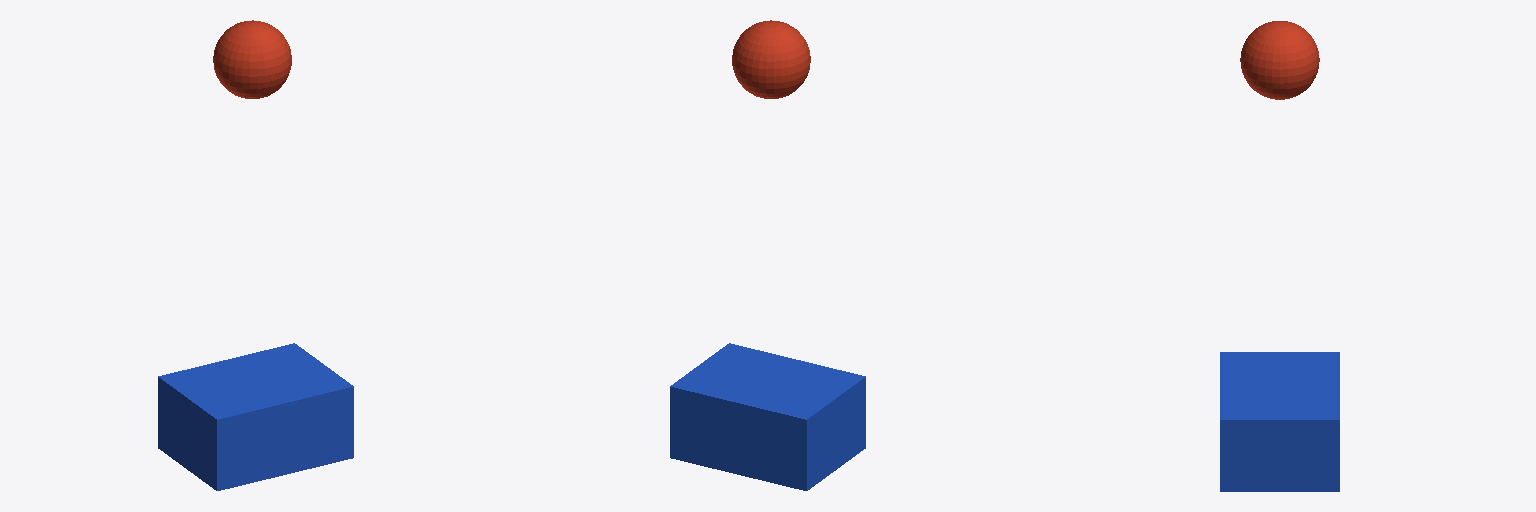
URDF robot description (two_link):
<?xml version="1.0"?>
<robot name="two_link">
  <link name="base_link">
    <inertial>
      <origin xyz="0 0 0"/>
      <mass value="2.0"/>
      <inertia ixx="0.1" ixy="0" ixz="0" iyy="0.1" iyz="0" izz="0.1"/>
    </inertial>
    <visual>
      <origin xyz="0.01 0 0"/>
      <geometry><box size="0.4 0.3 0.2"/></geometry>
      <material name="base"><color rgba="0.2 0.4 0.8 1"/></material>
    </visual>
    <collision><geometry><box size="0.4 0.3 0.2"/></geometry></collision>
  </link>
  <link name="tool_link">
    <inertial>
      <origin xyz="0 0 0.2"/>
      <mass value="1.0"/>
      <inertia ixx="0.01" ixy="0" ixz="0" iyy="0.01" iyz="0" izz="0.01"/>
    </inertial>
    <visual>
      <geometry><sphere radius="0.1"/></geometry>
      <material name="tool"><color rgba="0.8 0.3 0.2 1"/></material>
    </visual>
    <collision><geometry><sphere radius="0.1"/></geometry></collision>
  </link>
  <joint name="tool_joint" type="revolute">
    <parent link="base_link"/>
    <child link="tool_link"/>
    <origin xyz="0 0 1" rpy="0 0 0"/>
    <axis xyz="0 1 0"/>
    <limit lower="-1.5" upper="1.5" effort="10" velocity="2"/>
  </joint>
</robot>

--- What the picture shows (computed from the rendered views, not written in the file) ---
The picture shows the robot from 3 angles, left to right: view 1: azimuth 30°, elevation 25°; view 2: azimuth 150°, elevation 25°; view 3: azimuth 270°, elevation 25°; orthographic projection.
Model two_link with 2 links and 1 joints (1 revolute), rooted at base_link, posed every joint at zero.
Links seen in each view (by area): view 1: base_link, tool_link; view 2: base_link, tool_link; view 3: base_link, tool_link.
Link boxes in pixels (<box>): base_link: <box>158,343,353,490</box>; tool_link: <box>213,20,291,98</box>; base_link: <box>670,343,865,490</box>; tool_link: <box>732,20,810,98</box>; base_link: <box>1220,352,1339,491</box>; tool_link: <box>1240,21,1319,99</box>.
Size in the robot's own frame: 0.4 by 0.3 by 1.2 metres.
Geometry: primitives only (box / cylinder / sphere), no mesh files.
